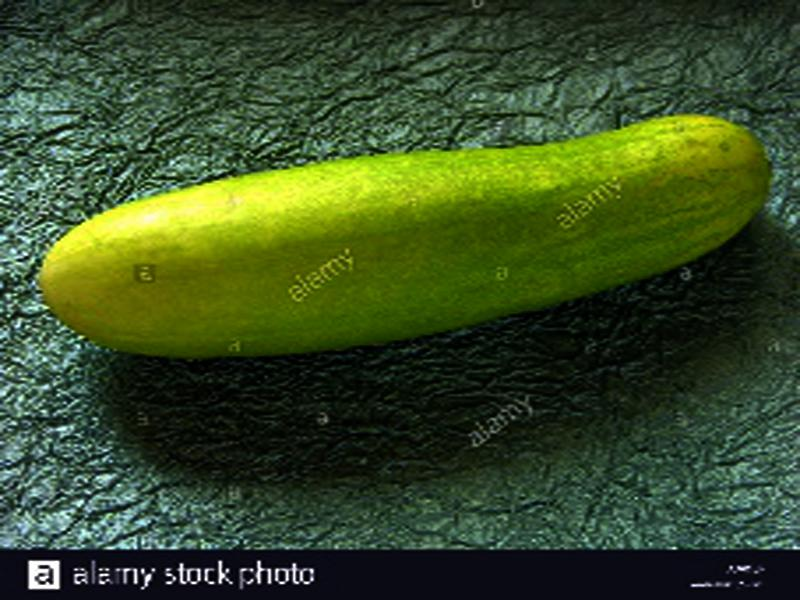Cucumber: (39, 114, 772, 357)
